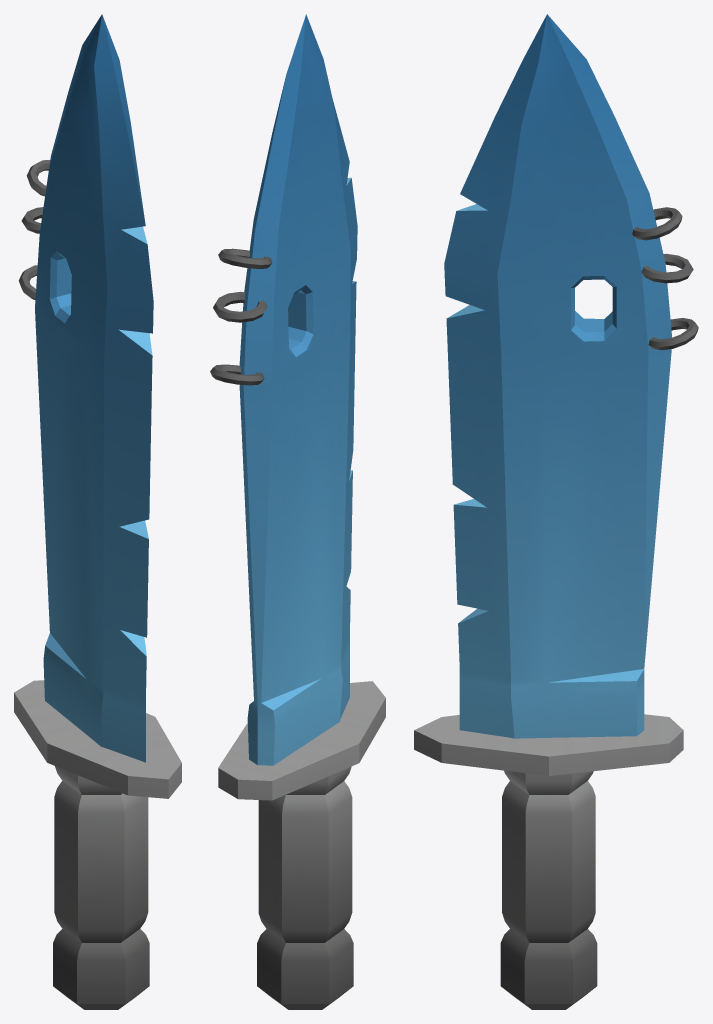
File: Knife.fbx
3 views of the same model, side by side, from view 1: azimuth 30°, elevation 25°; view 2: azimuth 150°, elevation 25°; view 3: azimuth 270°, elevation 25° (orthographic).
Parts seen in each view (by area): view 1: Knife; view 2: Knife; view 3: Knife.
Part boxes in pixels (x1,y1,x2,y2): Knife: [14, 14, 181, 1009]; Knife: [210, 14, 385, 1009]; Knife: [414, 14, 698, 1009].
Size of the model in its own units: 0.0332 by 0.0758 by 0.2889.
